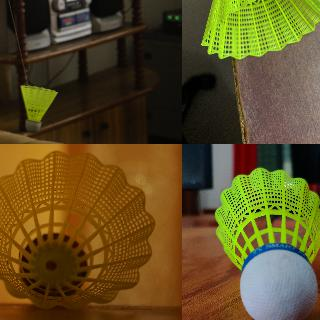shuttlecock: (0, 150, 155, 309), (214, 167, 319, 319), (200, 0, 319, 59), (20, 86, 58, 132)
